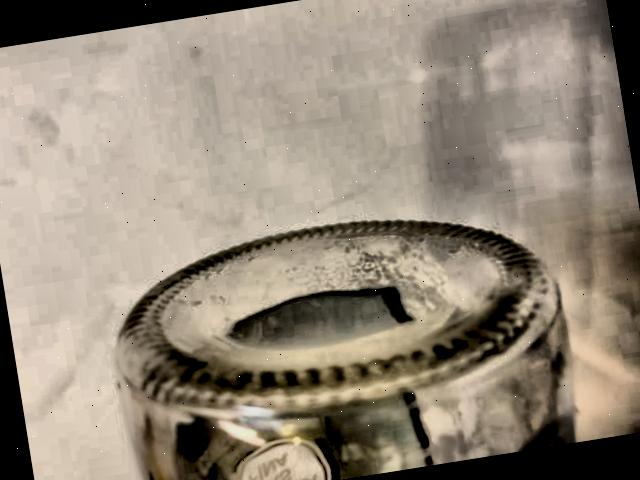Almennt: (88, 167, 591, 480)
